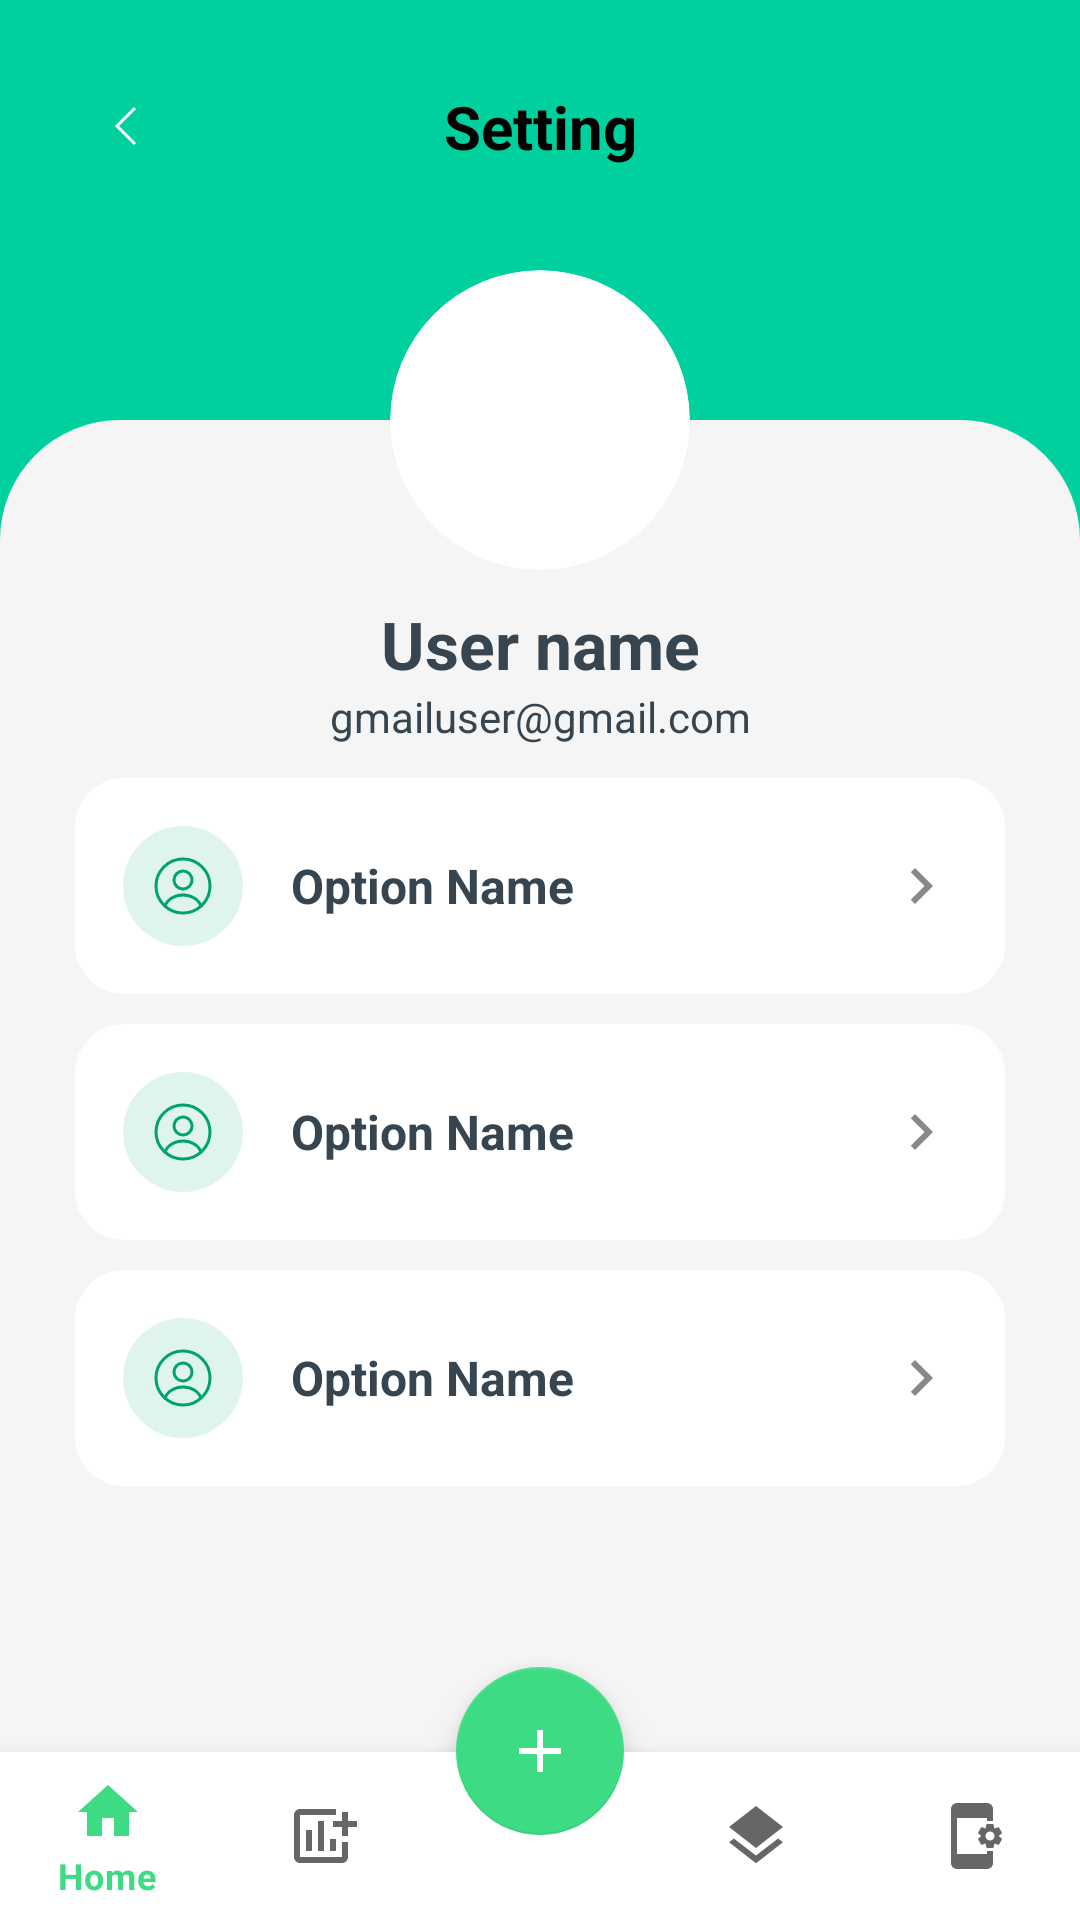

Icons on this 1080px x 1920px Android screen, each with its box as (x1, y1, x2, y2):
add: (456, 1667, 624, 1835)
arrow back: (115, 107, 136, 145)
chaveron right: (911, 868, 933, 904), (911, 1114, 933, 1150), (911, 1360, 933, 1396)
profile: (154, 857, 212, 915), (154, 1103, 212, 1161), (154, 1349, 212, 1407)
